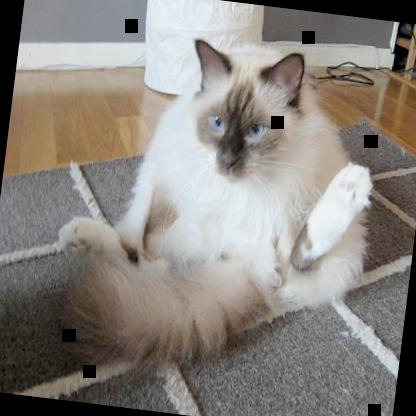cat: (43, 22, 388, 386)
